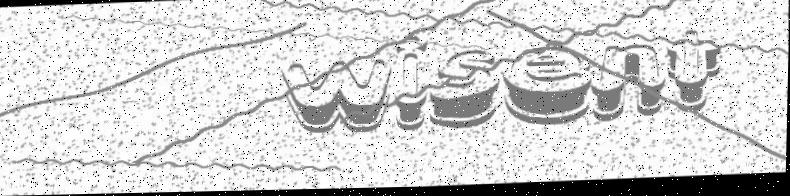e: (502, 43, 595, 130)
l: (393, 46, 428, 140)
n: (589, 43, 669, 128)
s: (422, 45, 504, 137)
t: (667, 29, 726, 125)
w: (271, 54, 396, 143)
